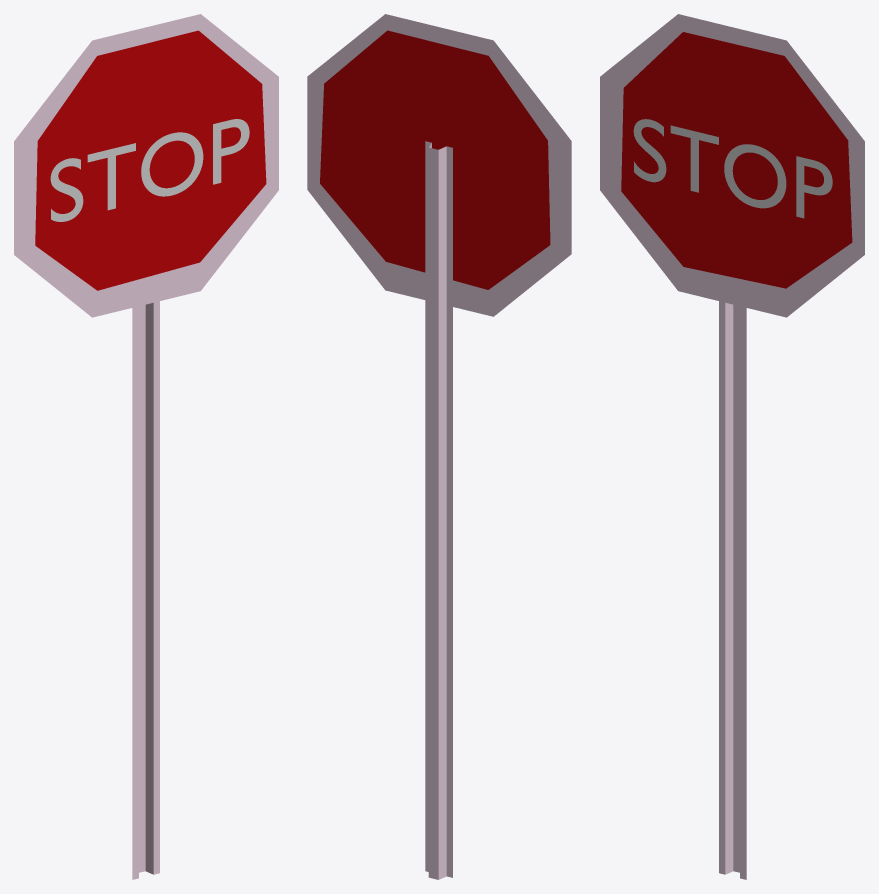
File: stop_sign.dae
3 views of the same model, side by side, from view 1: azimuth 30°, elevation 25°; view 2: azimuth 150°, elevation 25°; view 3: azimuth 330°, elevation 25° (orthographic).
Visible parts, largest first — view 1: Box001, Text; view 2: Box001; view 3: Box001, Text.
Part boxes in pixels (left/top/right/bottom): Box001: left=14, top=14, right=278, bottom=879; Text: left=50, top=119, right=249, bottom=221; Box001: left=307, top=14, right=571, bottom=879; Box001: left=600, top=14, right=864, bottom=879; Text: left=633, top=119, right=832, bottom=218.
Bounding box in the file's own units: 1.19 × 0.057 × 3.64.
